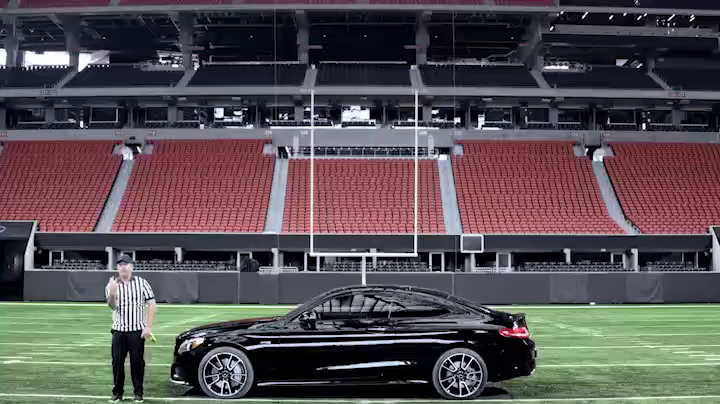amg: (170, 281, 541, 402)
